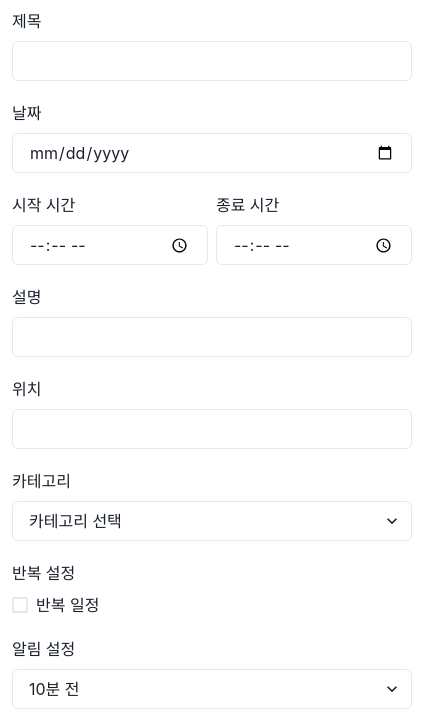
Test: AddEventForm › 반복 설정 체크박스 선택 시 반복 필드가 나타나는지 확인
This screenshot has width=429, height=714.
Click the checkbox named "반복 일정" at (44, 573), box left=12, top=563, right=75, bottom=583
(page scrolled)
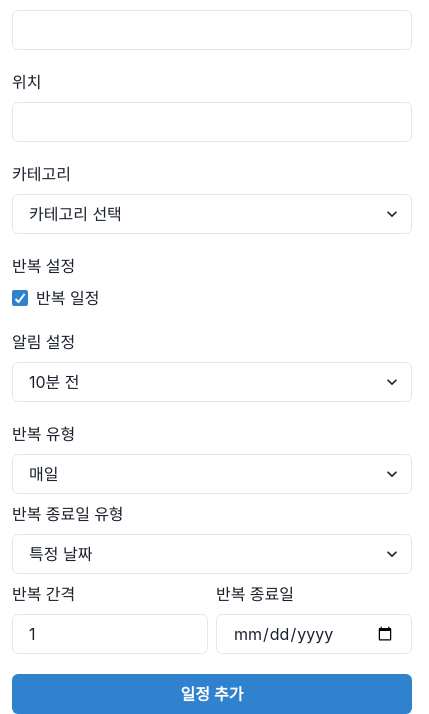
expect the dropdown labelled "반복 유형" is shown: met, box left=12, top=454, right=412, bottom=494
expect the number field labelled "반복 간격" is shown: met, box left=12, top=614, right=208, bottom=654
expect the date field labelled "반복 종료일" is shown: met, box left=216, top=614, right=412, bottom=654
